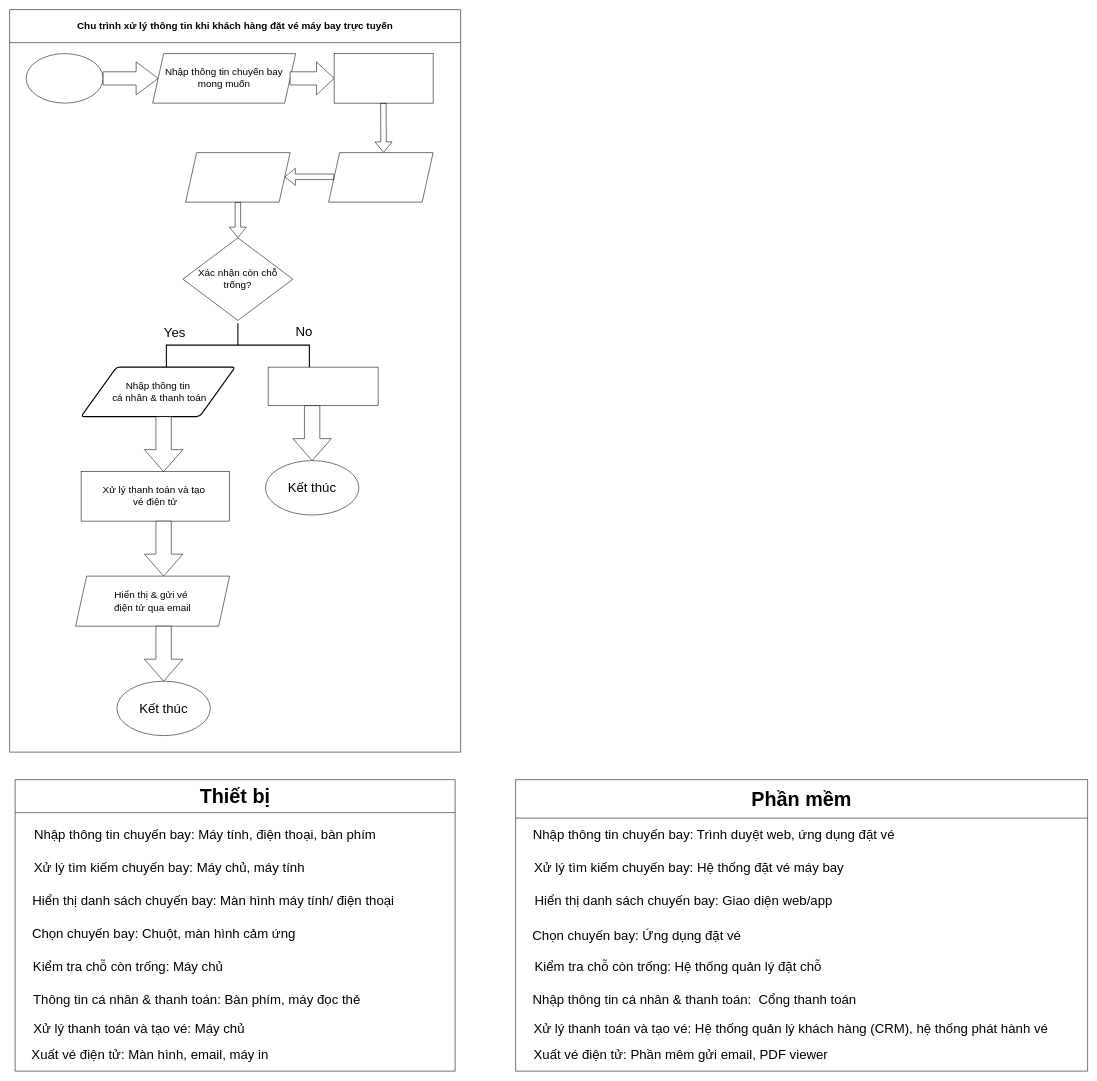
The diagram is 1097 pixels wide and 1081 high, and some of its shapes have lost their labels. The centre of each missing label's shape, as x and y in pixels:
Bắt đầu: point 64,78
Hiển thị danh sách chuyến bay: point 380,177
Khách hàng chọn chuyến bay: point 237,177
Thông báo hết chỗ: point 323,386
Xử lý tìm kiếm chuyến bay phù hợp: point 383,78
